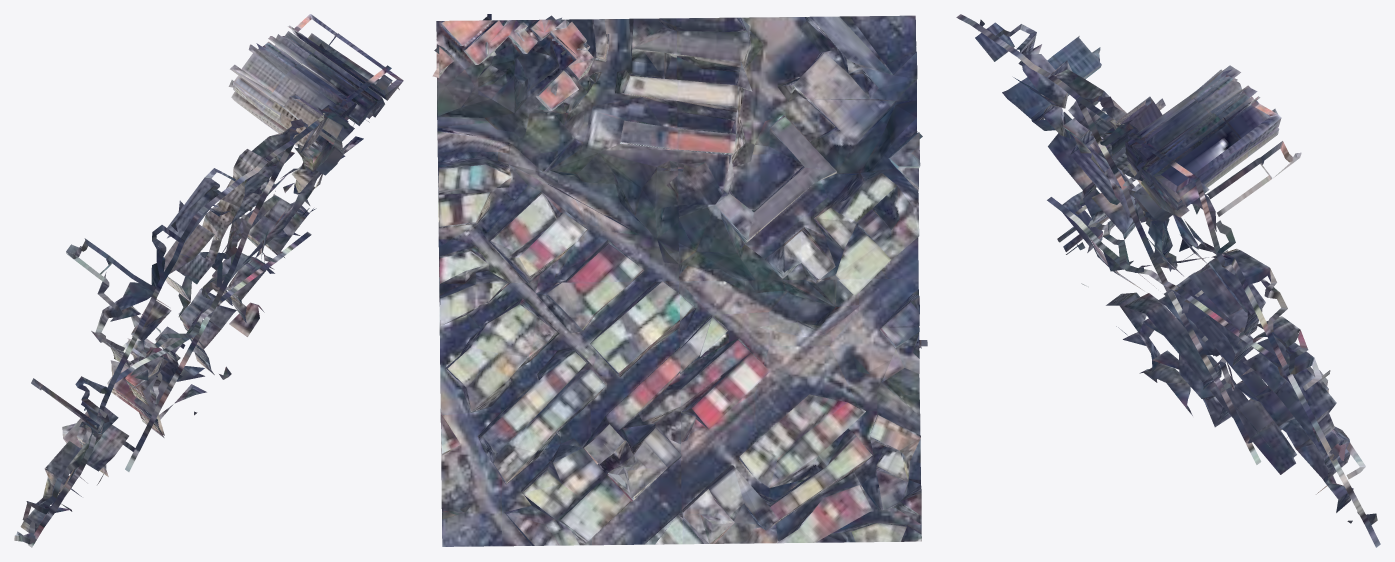
3 renders of one model, left to right at view 1: azimuth 30°, elevation 25°; view 2: azimuth 150°, elevation 25°; view 3: azimuth 270°, elevation 25°, orthographic. The views are drawn at different scales.
Bounding box in the file's own units: 314 × 309 × 258.
Materials: 2 (2 with a texture image).
